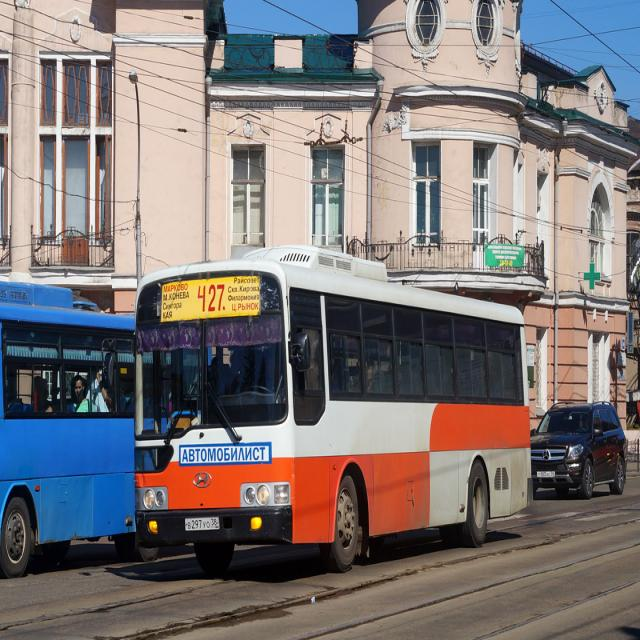number-of-bus: (196, 282, 226, 316)
